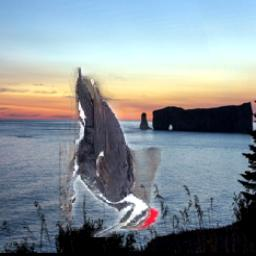Woodpecker: (58, 67, 160, 237)
